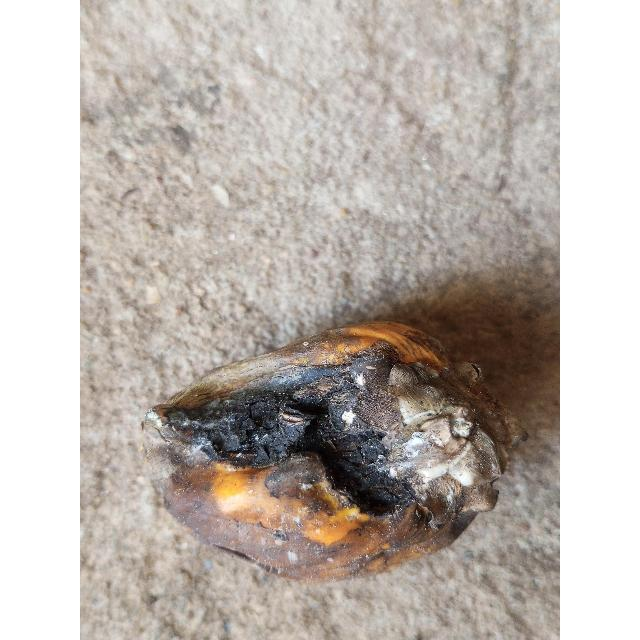damaged: (143, 309, 516, 585)
